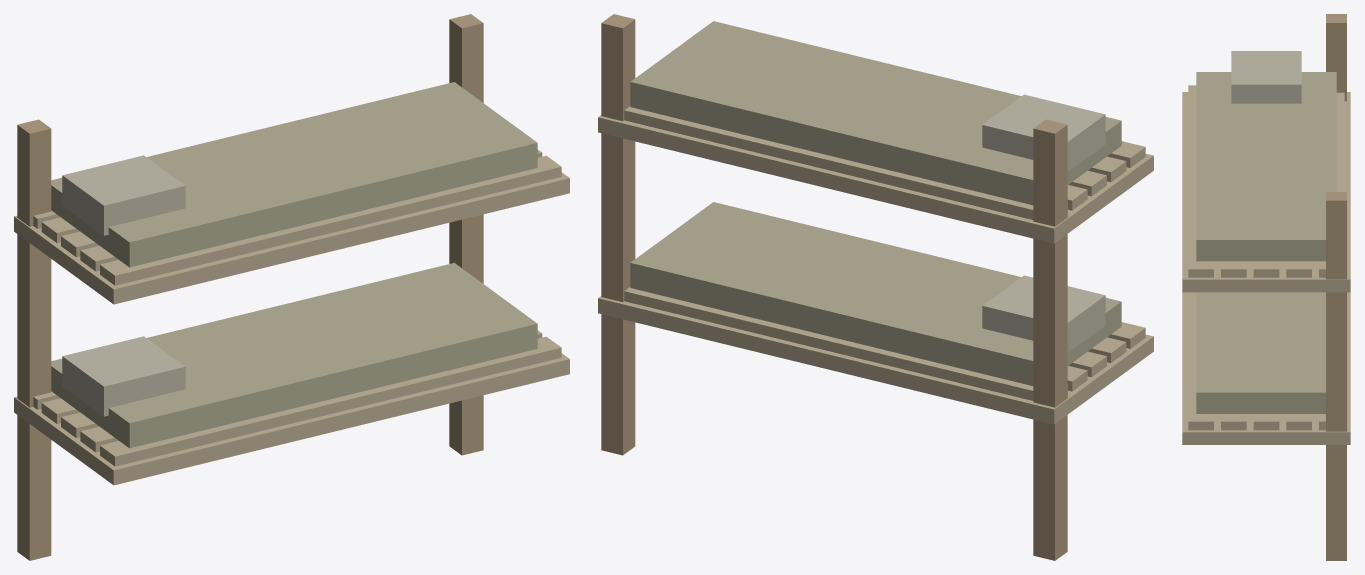
File: trench-line-1917-bunk-shelf-e5454e18__24069.glb
The picture shows the model from 3 angles, left to right: view 1: azimuth 30°, elevation 25°; view 2: azimuth 150°, elevation 25°; view 3: azimuth 270°, elevation 25°; orthographic projection. The views are drawn at different scales.
Visible parts, largest first — view 1: bunk-shelf; view 2: bunk-shelf; view 3: bunk-shelf.
Part boxes in pixels (x1,y1,x2,y2): bunk-shelf: [14, 14, 569, 560]; bunk-shelf: [598, 14, 1153, 560]; bunk-shelf: [1182, 14, 1350, 560].
Bounding box in the file's own units: 1.9 × 1.7 × 0.72.
